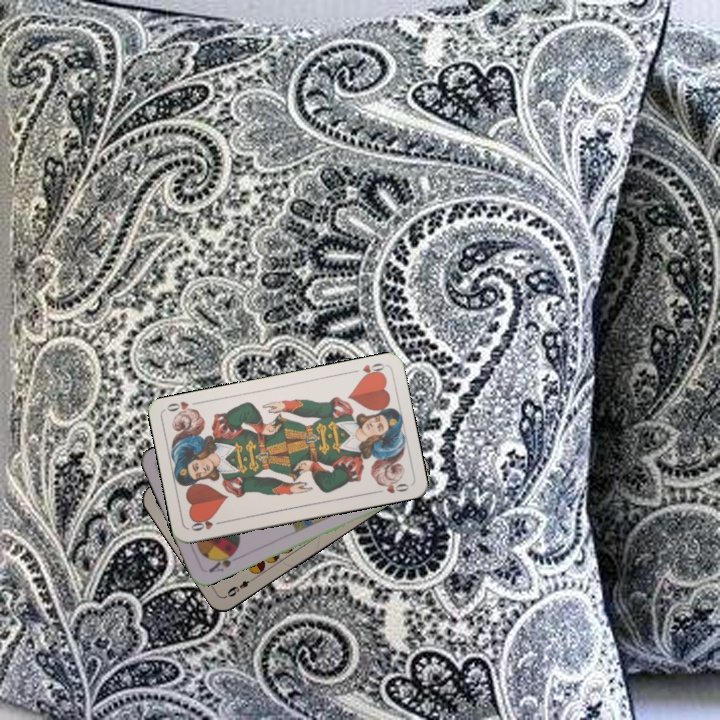E9: (223, 573, 258, 600)
HO: (347, 359, 388, 381), (187, 514, 226, 534)
SA: (204, 547, 239, 575)
